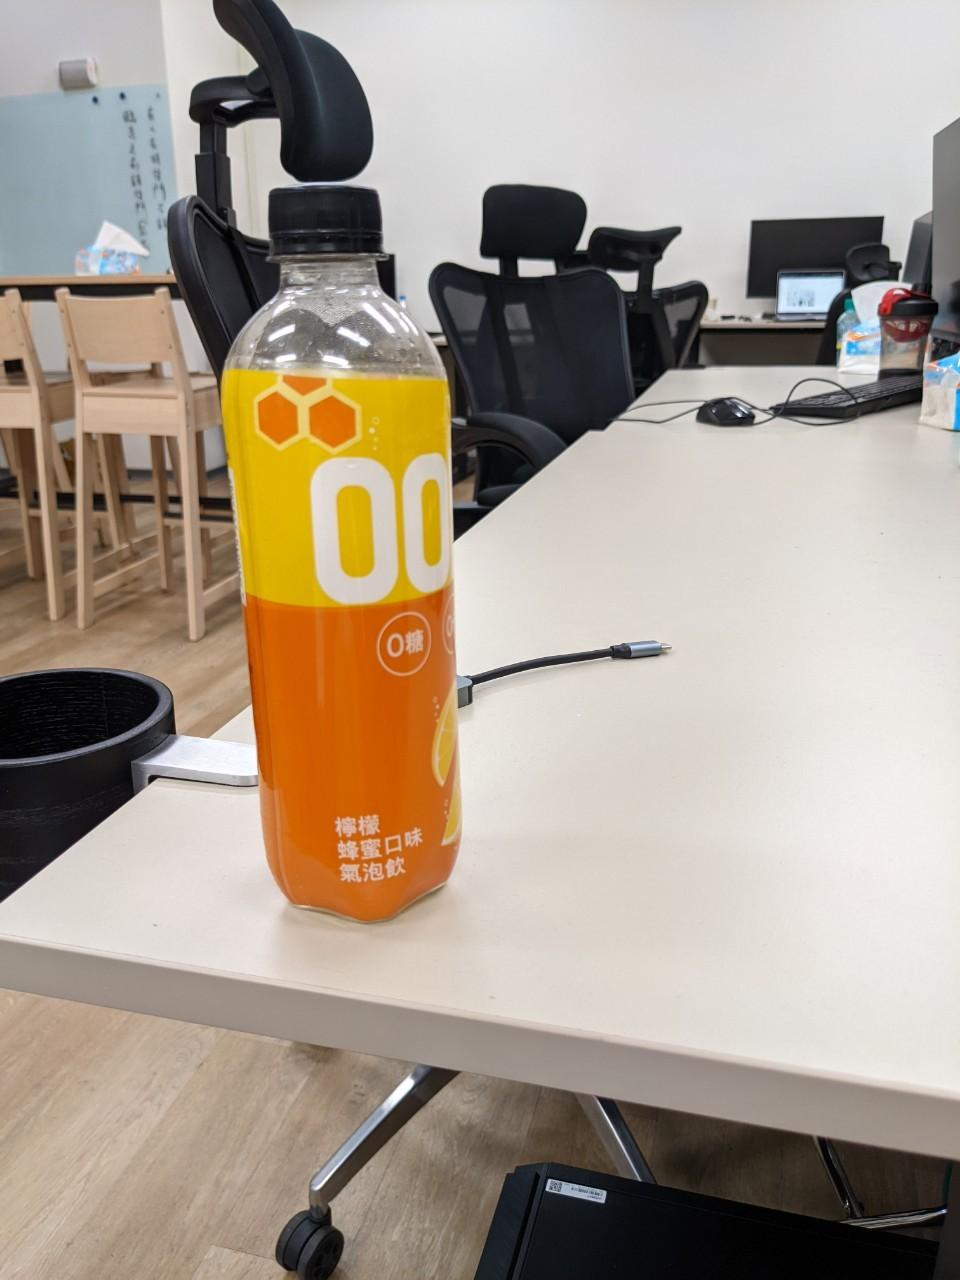BIODEGRADABLE: (200, 170, 506, 950)
